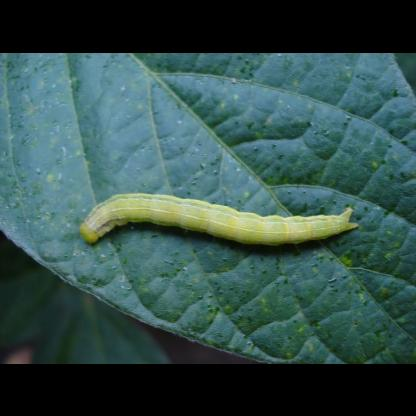oruga: (54, 190, 362, 256)
